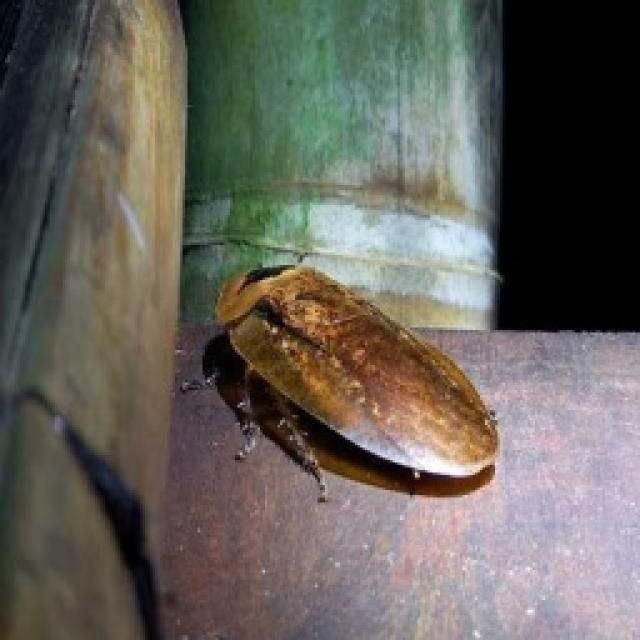cockroach: (213, 262, 500, 481)
